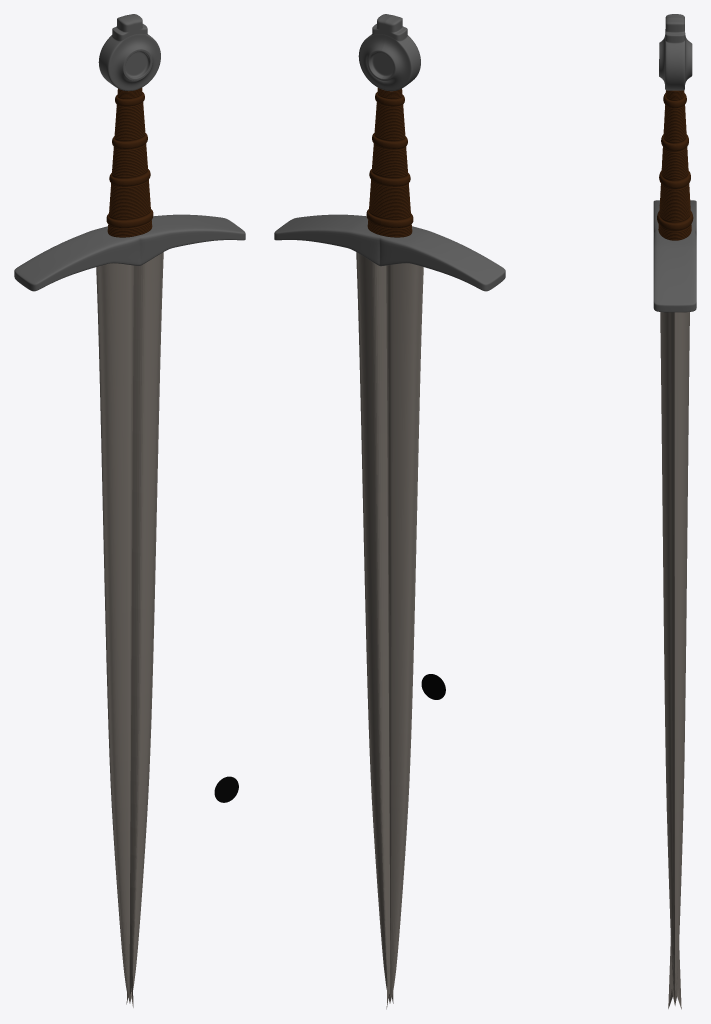
Rendered from sword (1).fbx.
3 renders of one model, left to right at view 1: azimuth 30°, elevation 25°; view 2: azimuth 150°, elevation 25°; view 3: azimuth 270°, elevation 25°, orthographic.
Visible parts, largest first — view 1: Cube; view 2: Cube; view 3: Cube.
Boxes of the visible parts, box(x1,y1,x2,y2) form: Cube: box(14, 14, 245, 1007); Cube: box(274, 14, 505, 1009); Cube: box(653, 14, 696, 1009).
Bounding box in the file's own units: 105 × 462 × 68.54.
